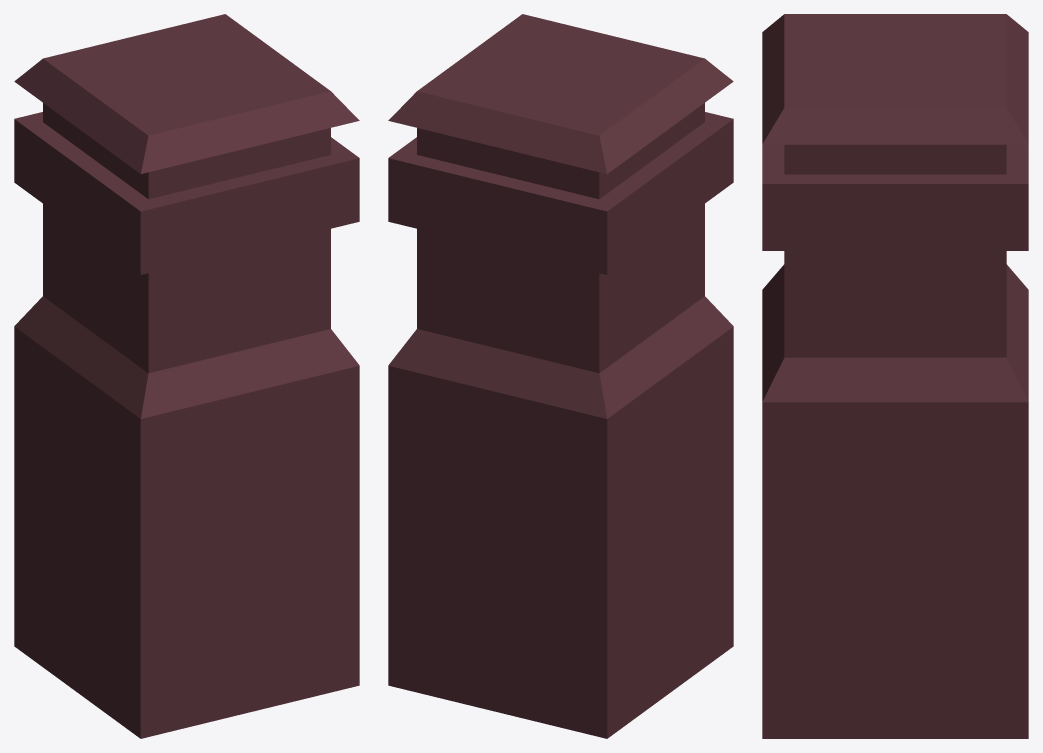
File: empire-railing-pillar-empire.glb
3 renders of one model, left to right at view 1: azimuth 30°, elevation 25°; view 2: azimuth 150°, elevation 25°; view 3: azimuth 270°, elevation 25°, orthographic. The views are drawn at different scales.
Visible parts, largest first — view 1: SM_Railing_Pillar_Empire; view 2: SM_Railing_Pillar_Empire; view 3: SM_Railing_Pillar_Empire.
Boxes of the visible parts, x1=… form: SM_Railing_Pillar_Empire: x1=14, y1=14, x2=359, y2=738; SM_Railing_Pillar_Empire: x1=388, y1=14, x2=733, y2=738; SM_Railing_Pillar_Empire: x1=762, y1=14, x2=1028, y2=738.
Size of the model in its own units: 0.7194 by 1.86 by 0.7206.
